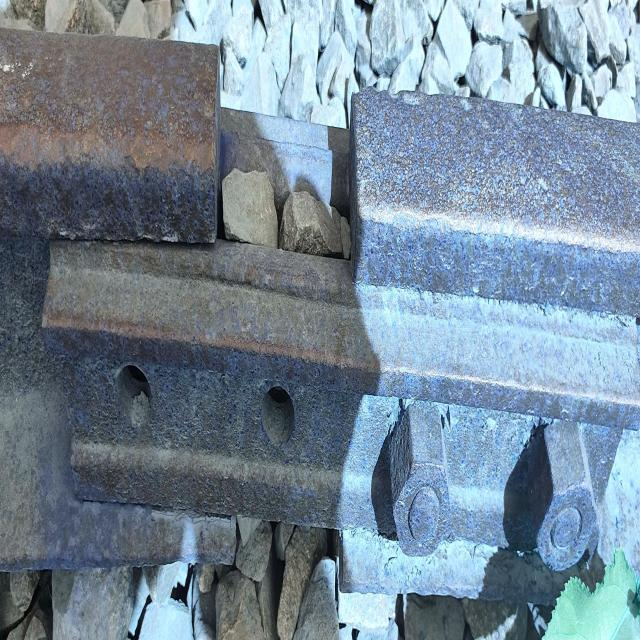Defective Joint: (38, 239, 640, 570)
